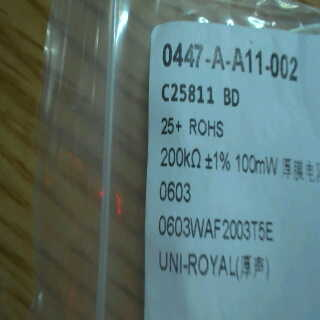200kR: (159, 145, 202, 170)
